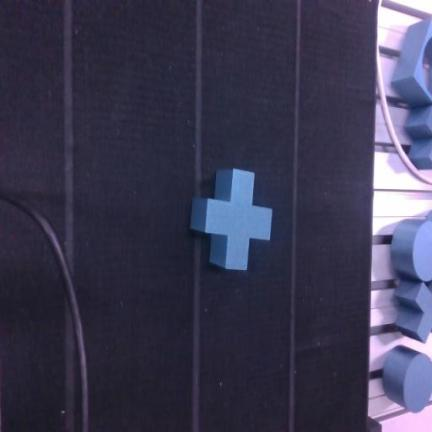cross: (191, 169, 271, 269)
